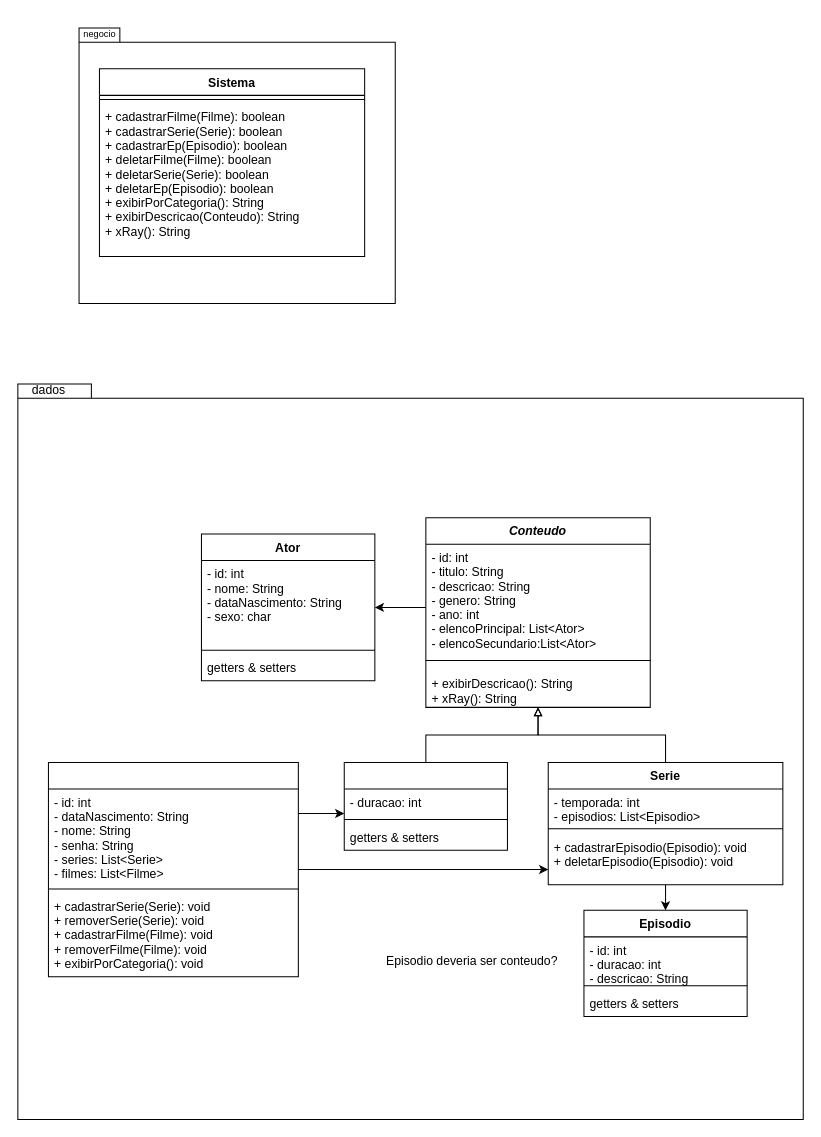
Some shapes in this 821 by 1137 pixel diagram are drawn without their labels. Here are the shapes that lost their labels. From the top down, the box of each, then its label:
(343, 761, 507, 850): Filme
(47, 761, 298, 977): Usuario
